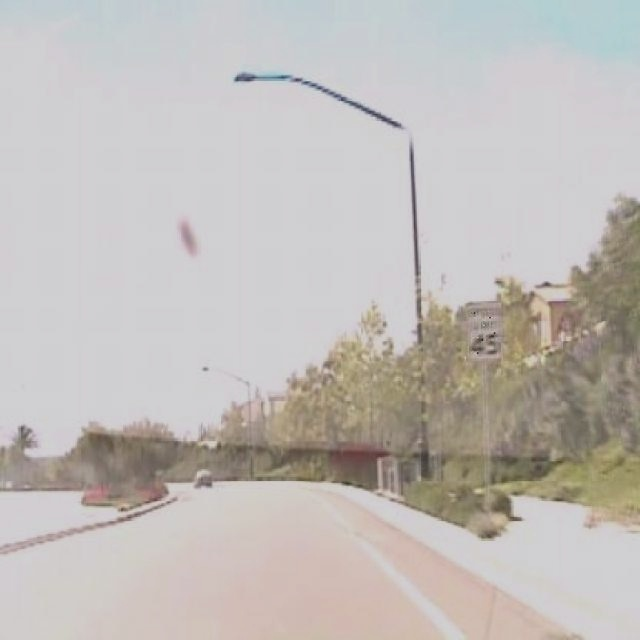speedLimit45: (466, 297, 503, 360)
